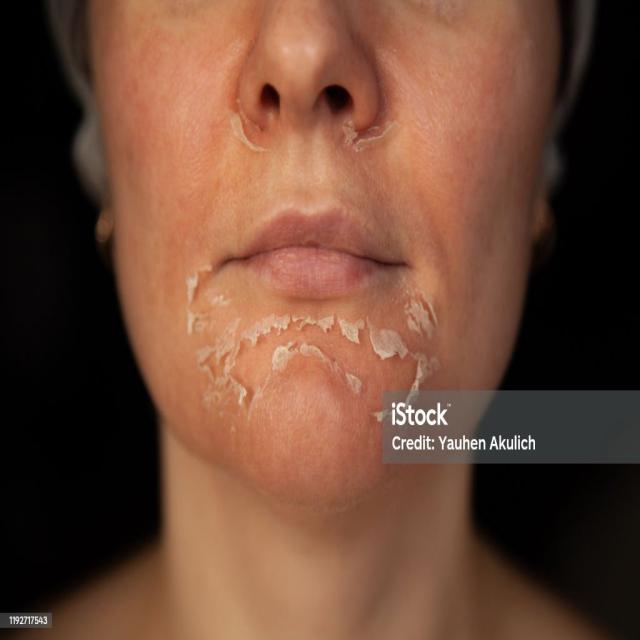Dry-Skin: (163, 252, 456, 456), (341, 116, 453, 214), (202, 85, 308, 188)
